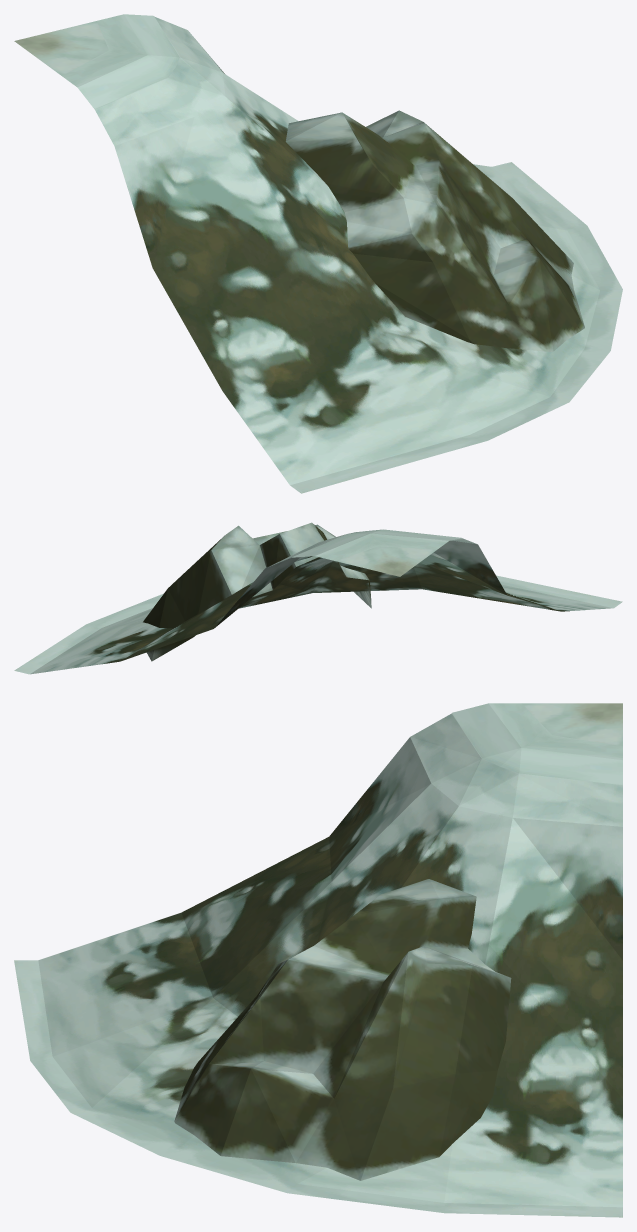
The model's file is tundra_convex_basecap01.fbx.
The picture shows the model from 3 angles, top to bottom: view 1: azimuth 30°, elevation 25°; view 2: azimuth 150°, elevation 25°; view 3: azimuth 270°, elevation 25°; orthographic projection. The views are drawn at different scales.
Parts seen in each view (by area): view 1: obj3; view 2: obj3; view 3: obj3.
Part boxes in pixels (<box>): obj3: <box>14,14,622,493</box>; obj3: <box>14,522,622,674</box>; obj3: <box>14,703,622,1217</box>.
Size of the model in its own units: 8.55 by 3.98 by 8.55.
